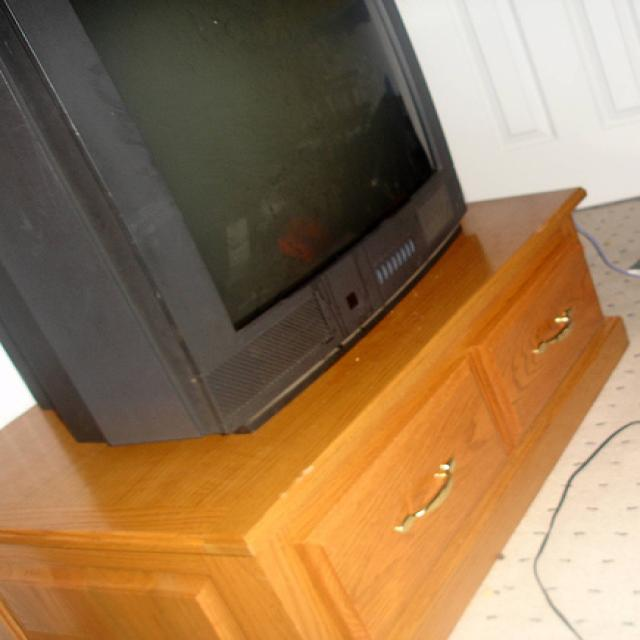tvmonitor: (1, 1, 469, 448)
